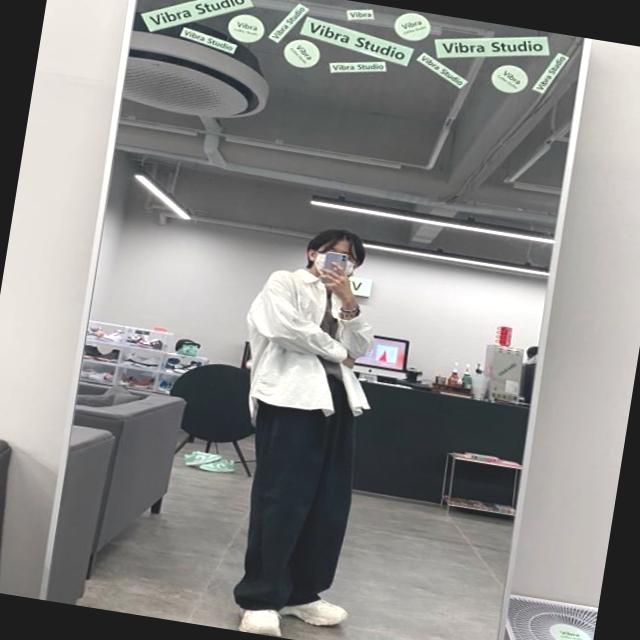cottonpants: (221, 363, 374, 622)
shirt: (234, 260, 394, 440)
